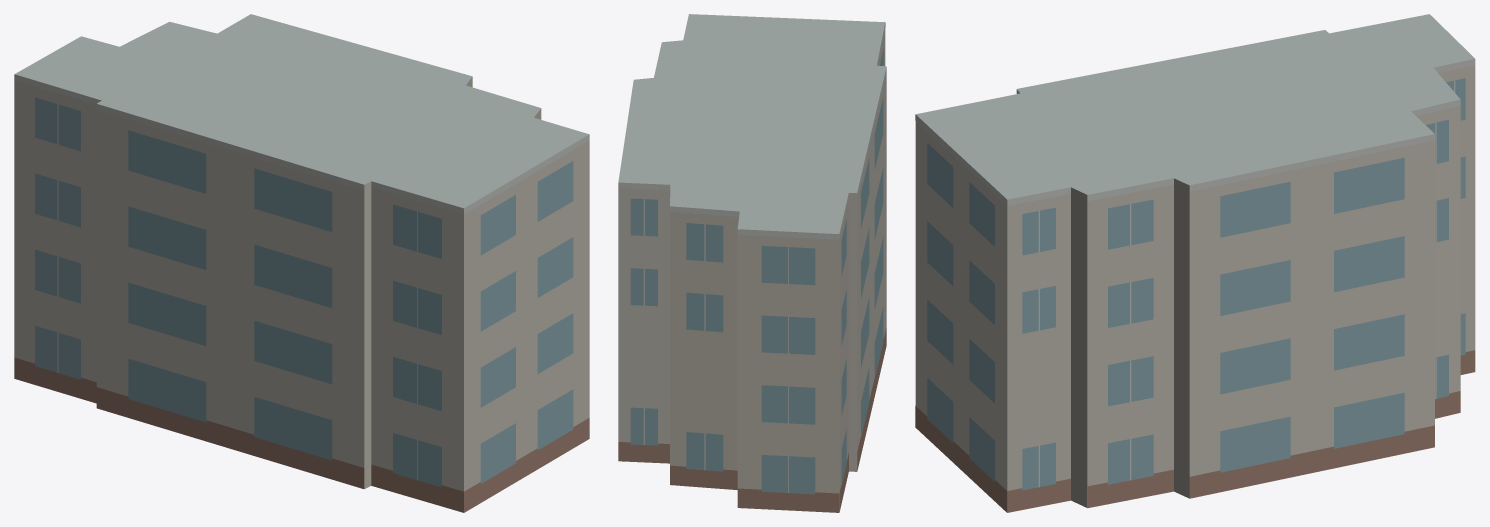
File: survey-upis-32936213.glb
The picture shows the model from 3 angles, left to right: view 1: azimuth 30°, elevation 25°; view 2: azimuth 150°, elevation 25°; view 3: azimuth 270°, elevation 25°; orthographic projection. The views are drawn at different scales.
Visible parts, largest first — view 1: survey-upis-32936213.tmp; view 2: survey-upis-32936213.tmp; view 3: survey-upis-32936213.tmp.
Boxes of the visible parts, box(x1,y1,x2,y2) form: survey-upis-32936213.tmp: box(14, 14, 589, 512); survey-upis-32936213.tmp: box(618, 14, 886, 512); survey-upis-32936213.tmp: box(915, 14, 1475, 512).
Size of the model in its own units: 15.45 by 12.15 by 19.69.
